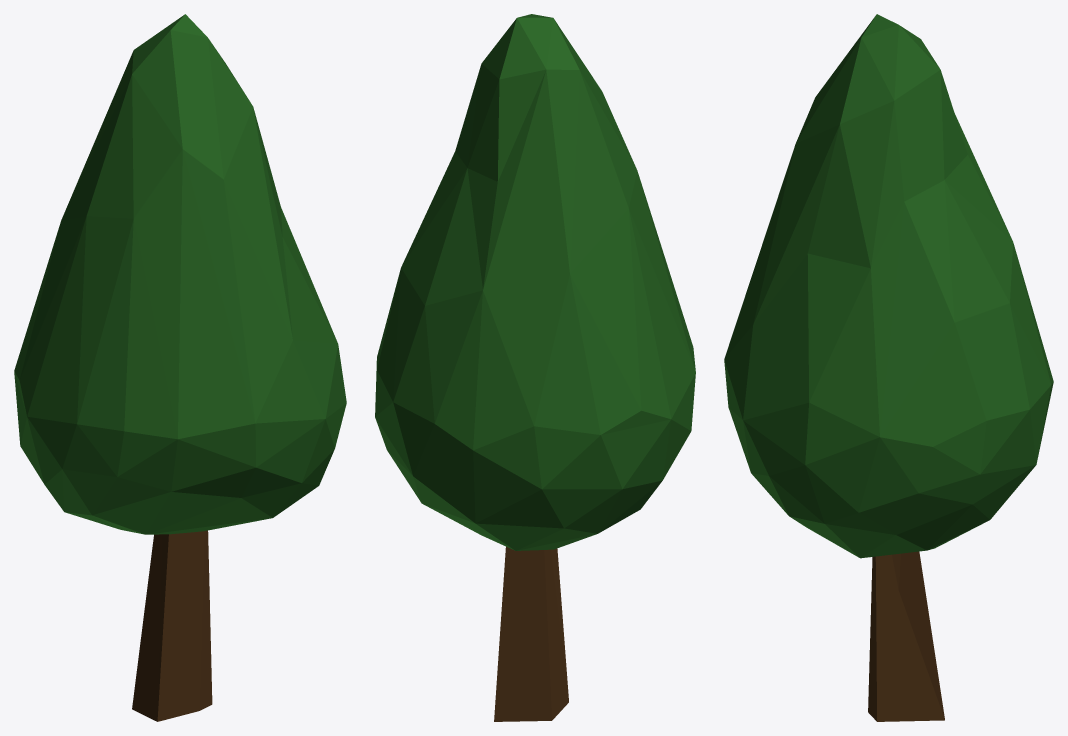
File: LongTree.fbx
3 views of the same model, side by side, from view 1: azimuth 30°, elevation 25°; view 2: azimuth 150°, elevation 25°; view 3: azimuth 270°, elevation 25° (orthographic).
Visible parts, largest first — view 1: TreeLong; view 2: TreeLong; view 3: TreeLong.
Boxes of the visible parts, x1,y1,x2,y2 form: TreeLong: (14, 14, 346, 721); TreeLong: (375, 14, 695, 721); TreeLong: (724, 14, 1053, 721).
Size of the model in its own units: 630 by 1453 by 624.
